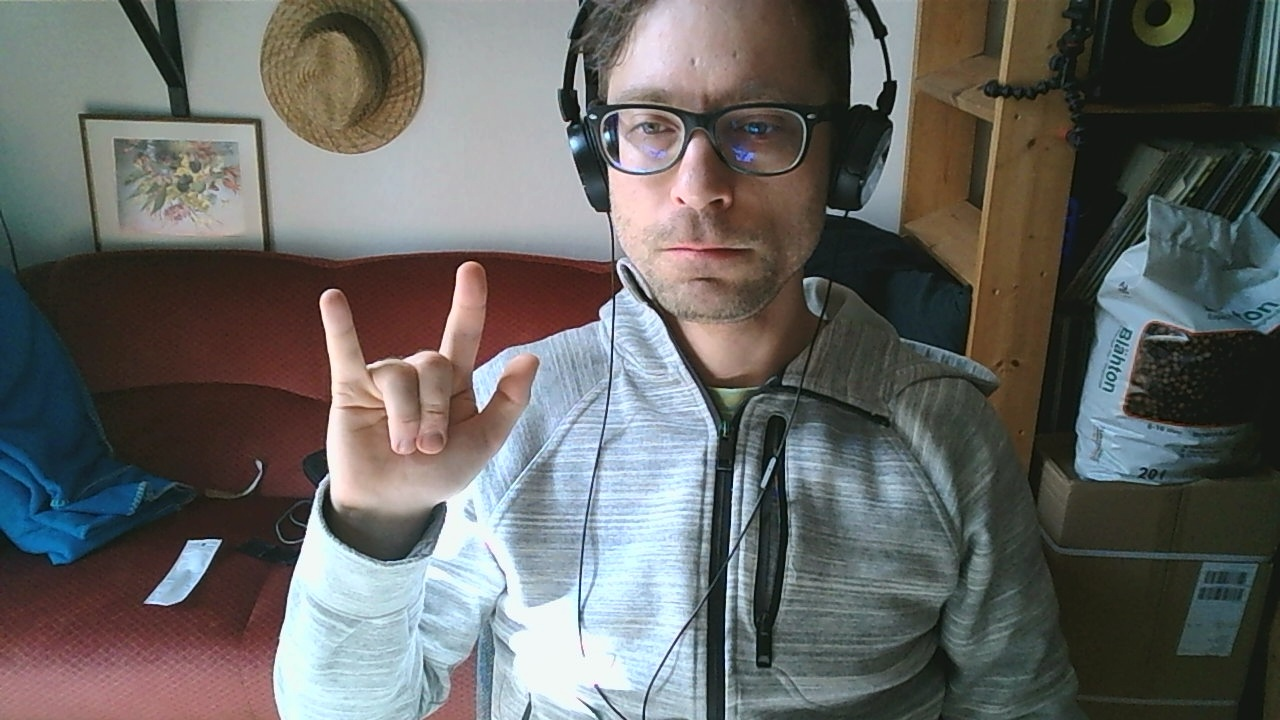iloveyou: (315, 262, 541, 507)
